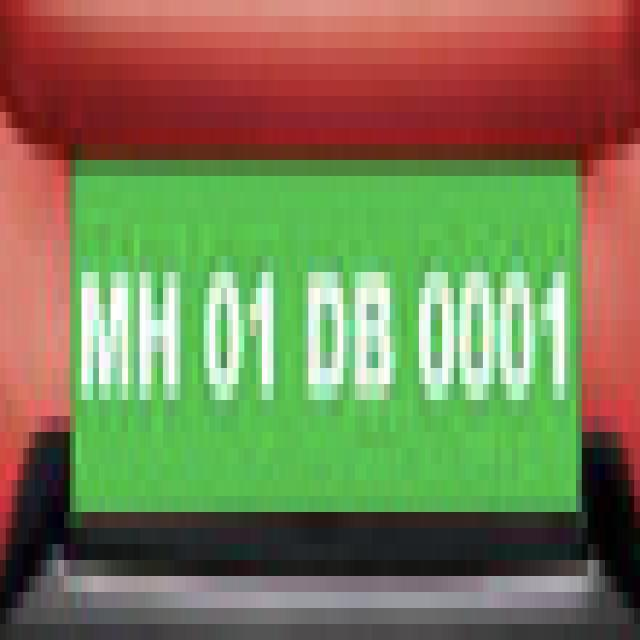0: (456, 234, 498, 438), (414, 231, 456, 427), (200, 248, 247, 411), (497, 230, 536, 420)
1: (247, 236, 286, 421), (542, 237, 568, 418)
B: (348, 241, 401, 420)
D: (302, 240, 350, 410)
H: (134, 246, 188, 424)
M: (76, 248, 134, 420)
